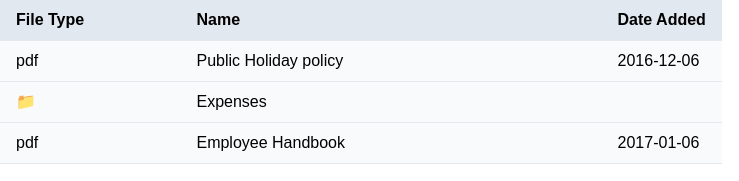
Test: FileExplorer › Sorting › should sort by type when 'file type' heading is clicked
The image size is (739, 181).
Click the column heading "File Type".
click(50, 20)  # box [0,0,180,40]
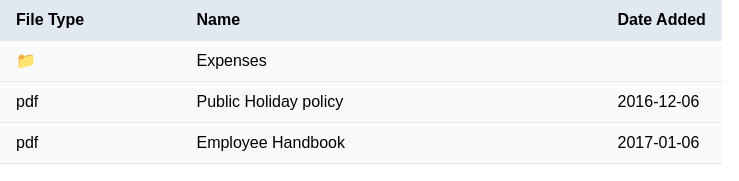
Result: the cell "📁" is shown at [0,40,180,82]
